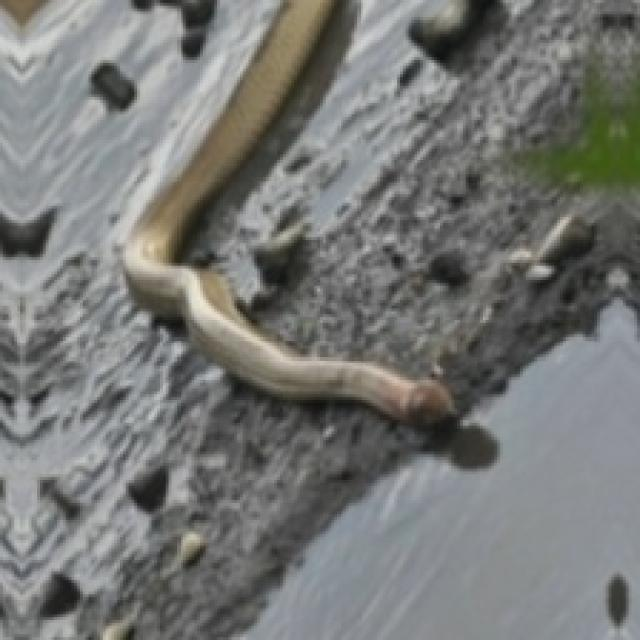king cobra: (123, 0, 451, 423)
